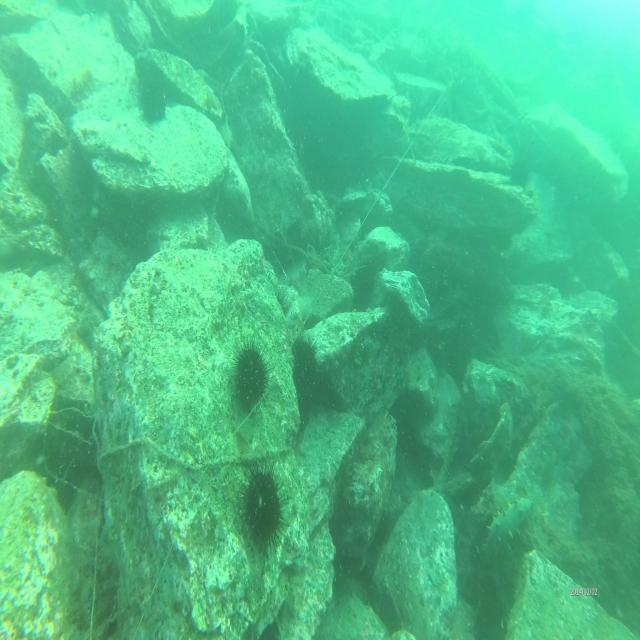echinus: (237, 458, 288, 560), (229, 338, 271, 408), (289, 334, 318, 404), (136, 74, 170, 124)
holothurian: (479, 492, 534, 578)
